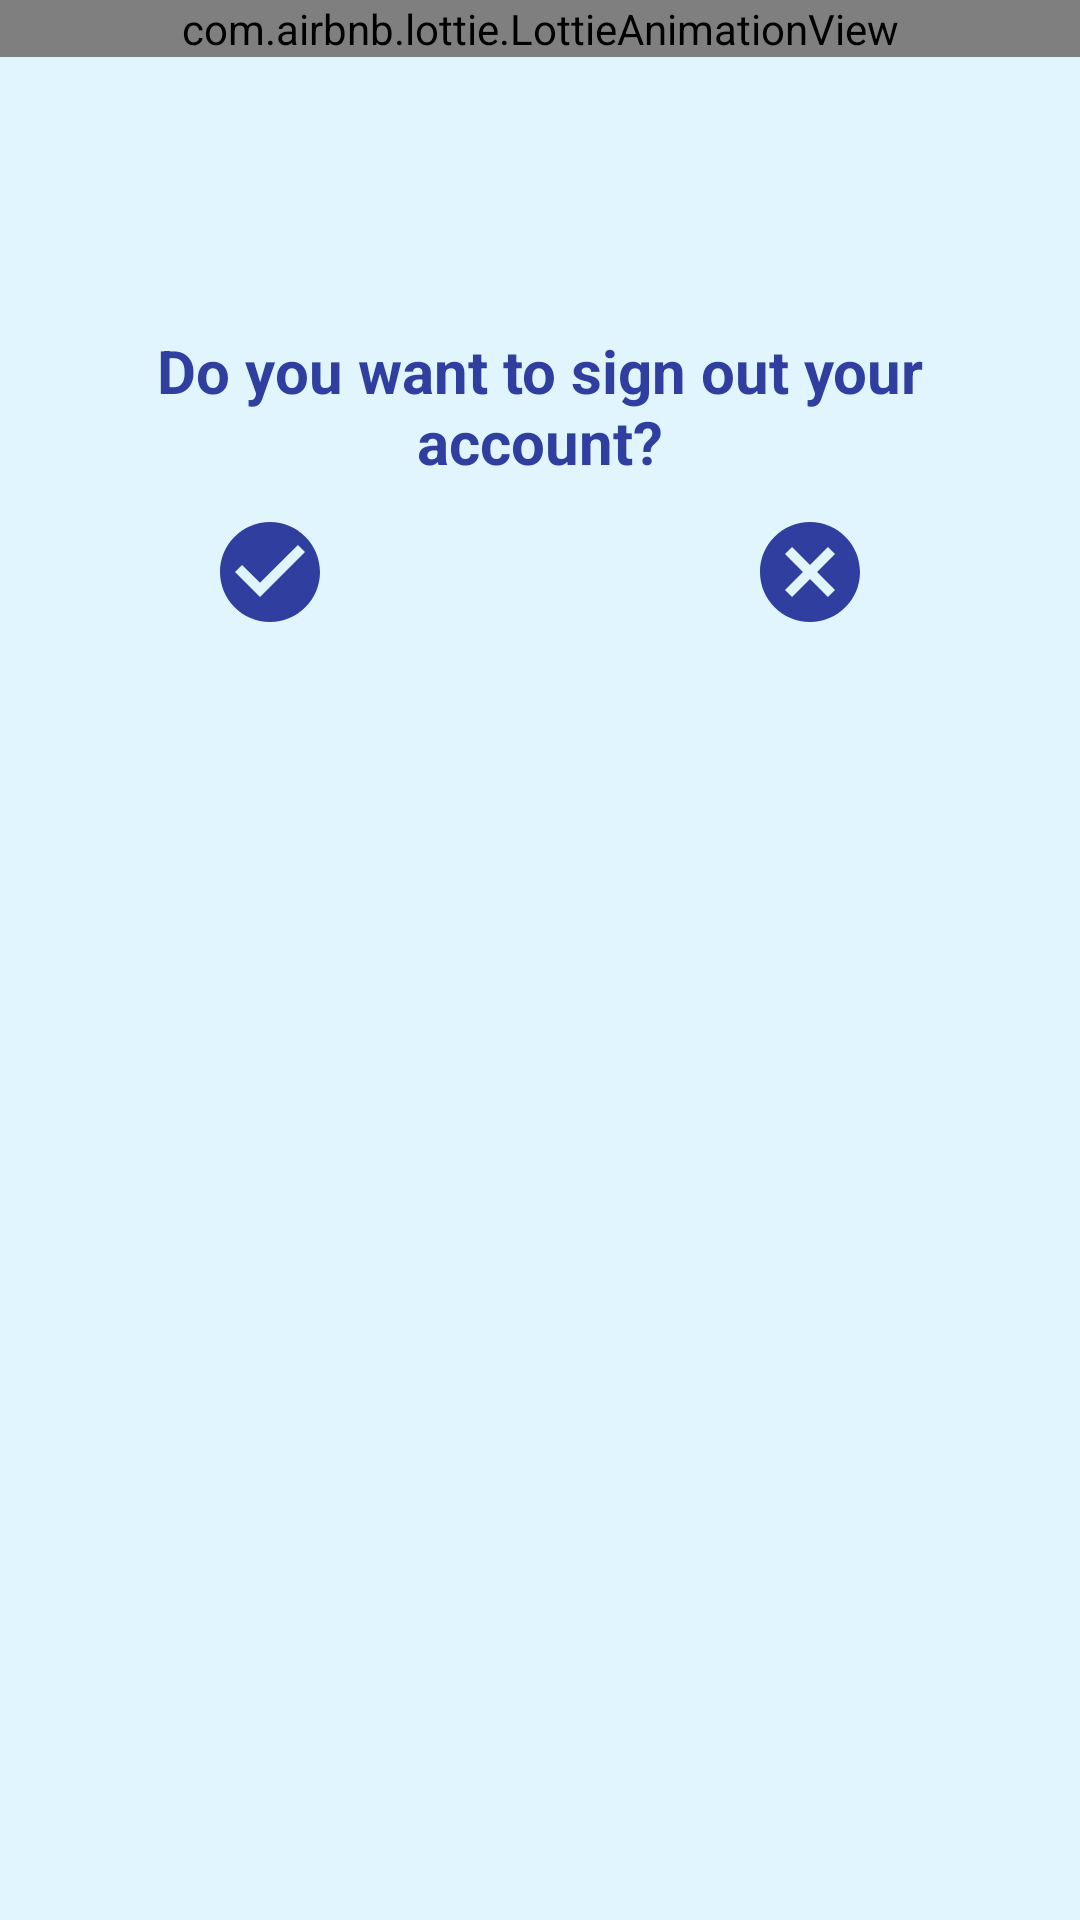

Named icons in this screenshot (1080x1920) and their bounding boxes, [left=x1, top=y1, right=x2, bottom=y2]:
cancel: [left=760, top=522, right=860, bottom=622]
check: [left=220, top=522, right=320, bottom=622]
